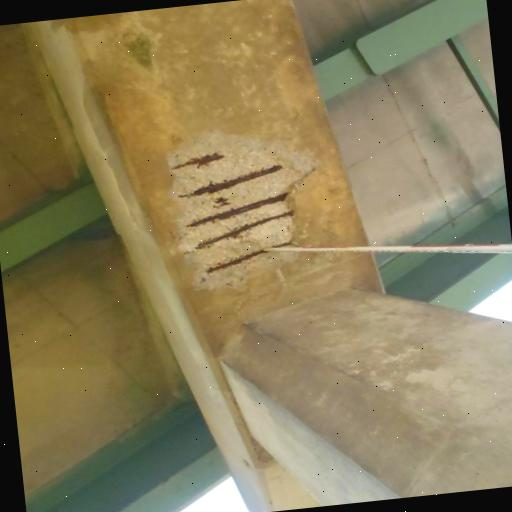spalling: (166, 132, 317, 288)
